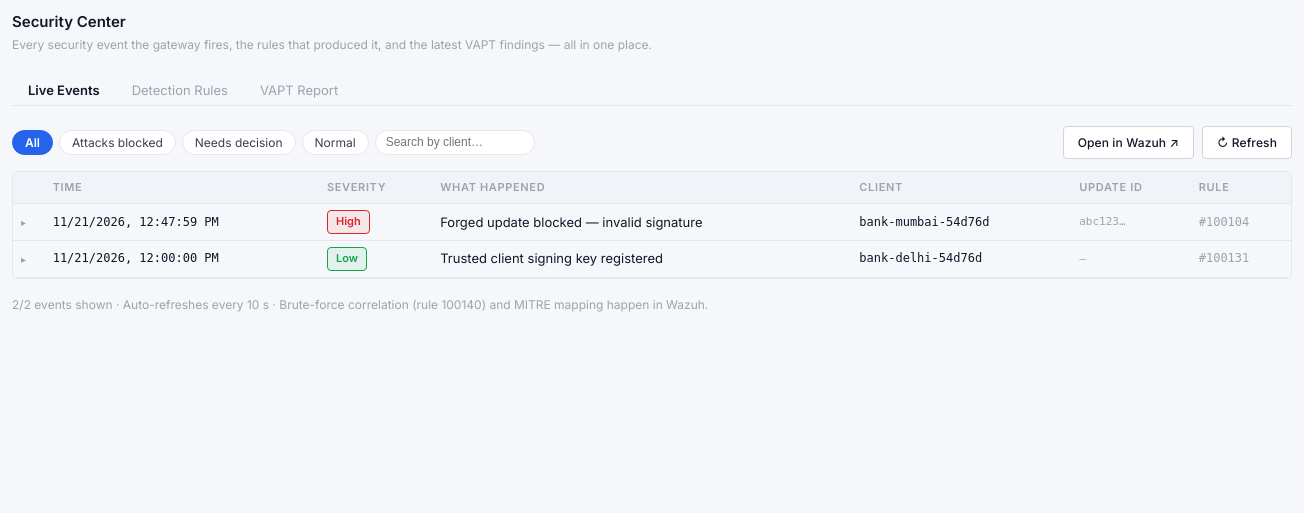
Scenario: SecurityCenter — expandable rows › row collapses when clicked again
Click the row that starts with "11/21/2026, 12:47:59 PM". click: [652, 222]
box: [13, 204, 1291, 241]
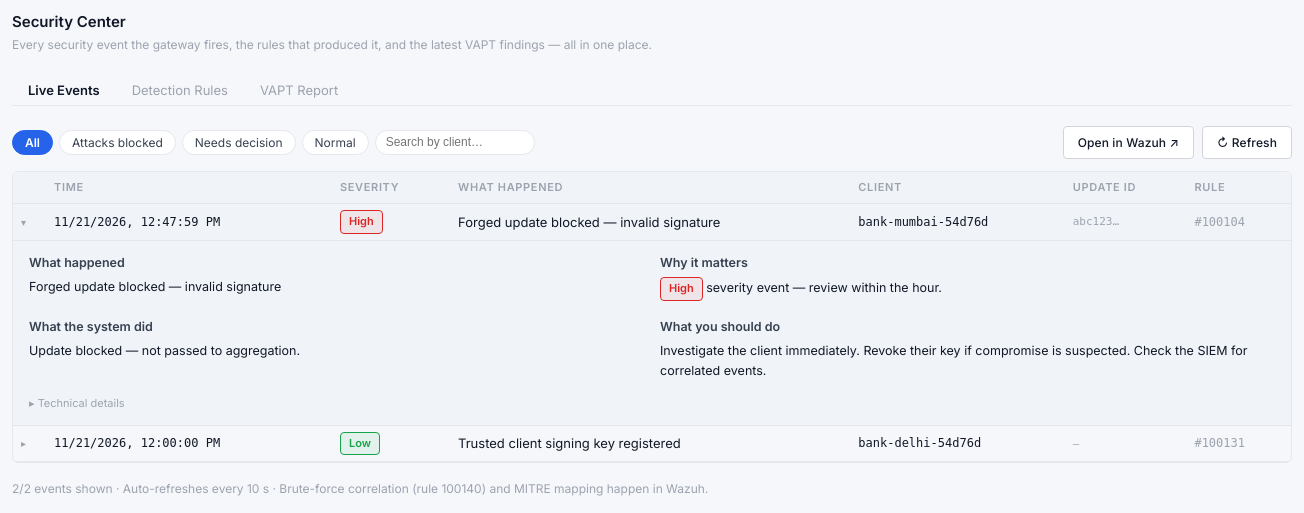
Now the text "Why it matters" is shown, box [660, 255, 748, 270]
Click the row that starts with "11/21/2026, 12:47:59 PM". click: [652, 222]
box: [13, 204, 1291, 240]
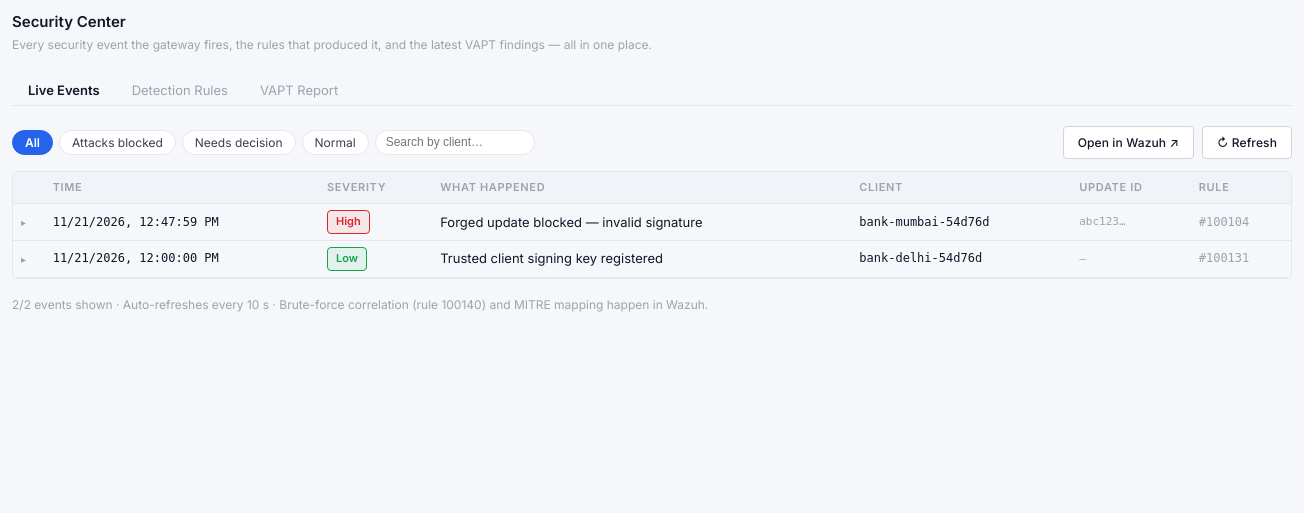
Now the text "Why it matters" is gone
